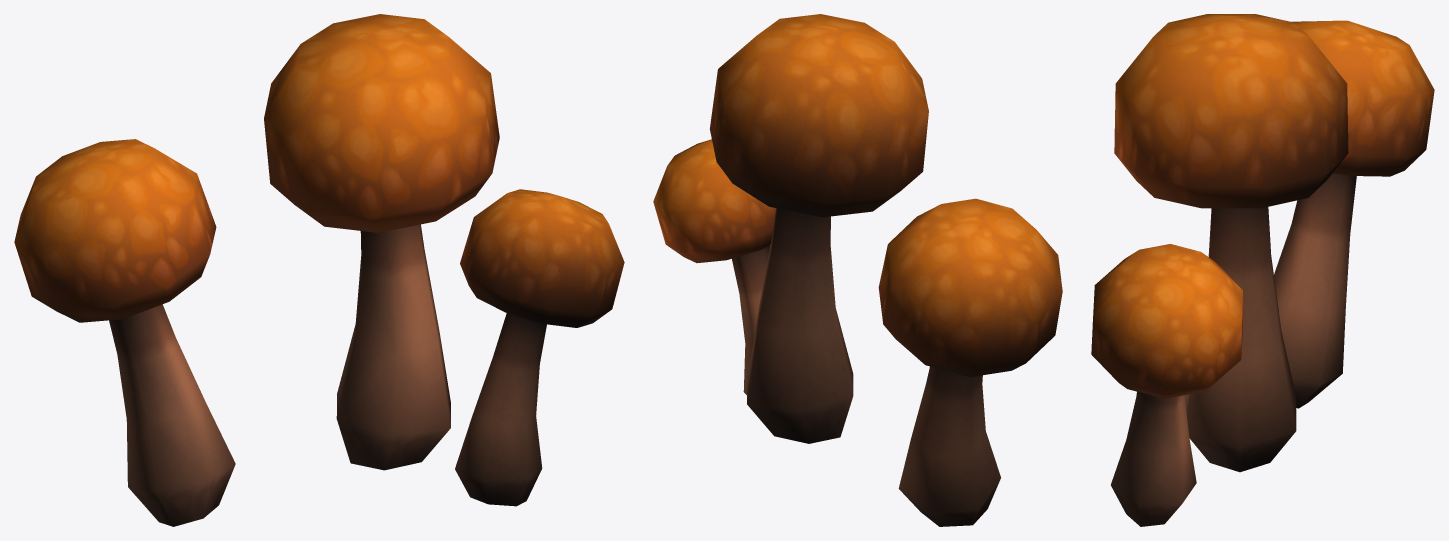
File: Mushroom_02Group.FBX
3 renders of one model, left to right at view 1: azimuth 30°, elevation 25°; view 2: azimuth 150°, elevation 25°; view 3: azimuth 270°, elevation 25°, orthographic. The views are drawn at different scales.
Parts seen in each view (by area): view 1: Mushroom_02Group; view 2: Mushroom_02Group; view 3: Mushroom_02Group.
Part boxes in pixels (left/top/right/bottom): Mushroom_02Group: left=14, top=14, right=624, bottom=526; Mushroom_02Group: left=653, top=14, right=1062, bottom=526; Mushroom_02Group: left=1091, top=14, right=1434, bottom=526.
Size of the model in its own units: 0.3612 by 0.3198 by 0.2166.
